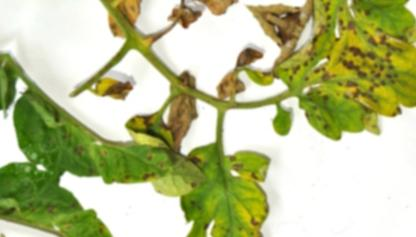Tomato Septoria leaf spot: (0, 58, 222, 237), (262, 31, 416, 177), (147, 116, 311, 237)
